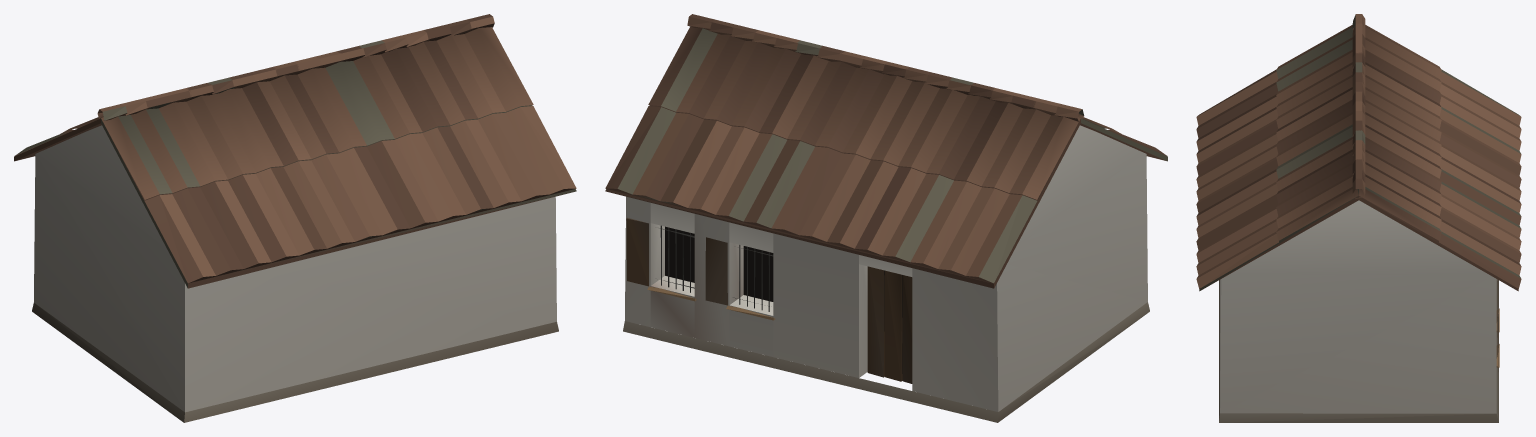
File: casa_ba_a_lod.glb
The picture shows the model from 3 angles, left to right: view 1: azimuth 30°, elevation 25°; view 2: azimuth 150°, elevation 25°; view 3: azimuth 270°, elevation 25°; orthographic projection. The views are drawn at different scales.
Visible parts, largest first — view 1: casa_ba_a; view 2: casa_ba_a; view 3: casa_ba_a.
Boxes of the visible parts, left/top/right/bottom form: casa_ba_a: left=14, top=14, right=576, bottom=422; casa_ba_a: left=605, top=14, right=1167, bottom=422; casa_ba_a: left=1196, top=14, right=1521, bottom=422.
Size of the model in its own units: 8.43 by 5.33 by 6.61.
